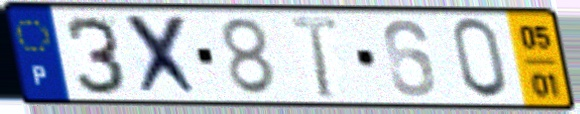0: (449, 15, 512, 103)
3: (64, 13, 130, 97)
6: (380, 17, 439, 100)
8: (217, 15, 277, 98)
T: (286, 14, 342, 101)
X: (121, 12, 206, 100)
